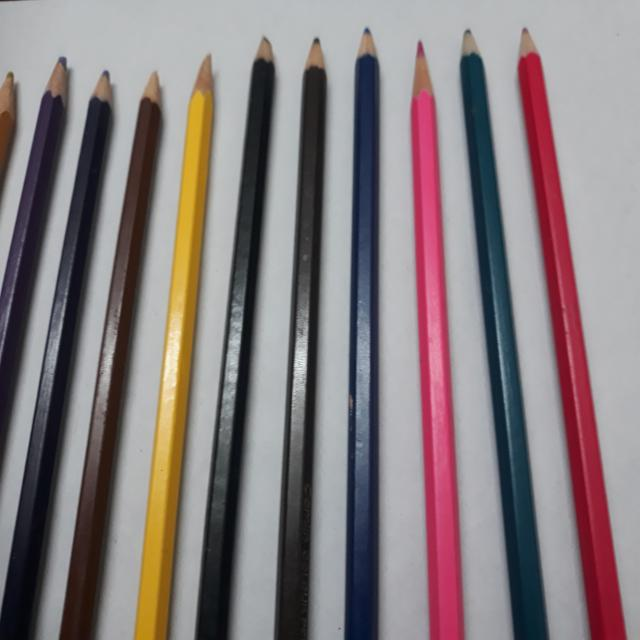pencil: (500, 9, 635, 640), (50, 39, 179, 638), (0, 43, 128, 638), (442, 7, 554, 640), (125, 22, 232, 640), (187, 4, 287, 640), (397, 16, 474, 640), (261, 6, 335, 640), (2, 34, 85, 483), (335, 16, 391, 640), (0, 58, 31, 197)
